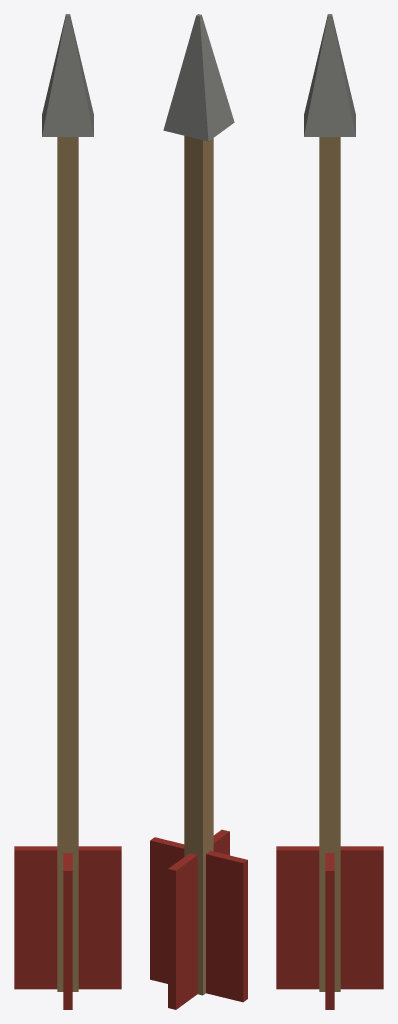
Rendered from flecha.glb.
3 renders of one model, left to right at view 1: azimuth 90°, elevation 25°; view 2: azimuth 150°, elevation 25°; view 3: azimuth 270°, elevation 25°, orthographic.
Parts seen in each view (by area): view 1: flecha.001; view 2: flecha.001; view 3: flecha.001.
Part boxes in pixels (left/top/right/bottom): flecha.001: left=14, top=14, right=121, bottom=1009; flecha.001: left=150, top=14, right=247, bottom=1009; flecha.001: left=276, top=14, right=383, bottom=1009.
Size of the model in its own units: 0.07 by 0.7 by 0.07.
